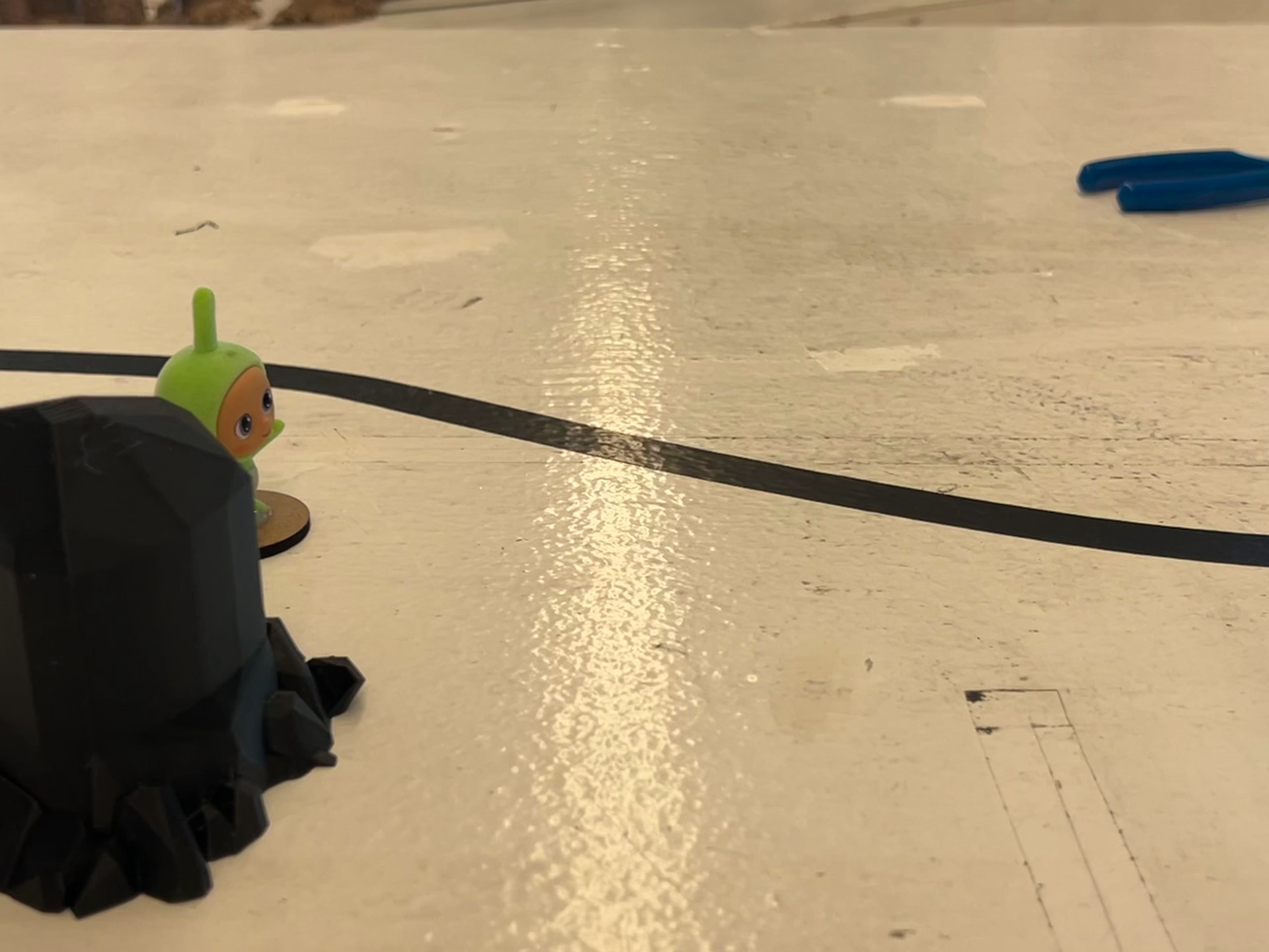teletubby: (155, 288, 284, 526)
